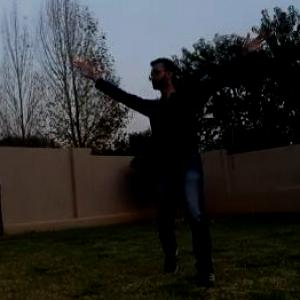takeoff: (72, 30, 262, 284)
